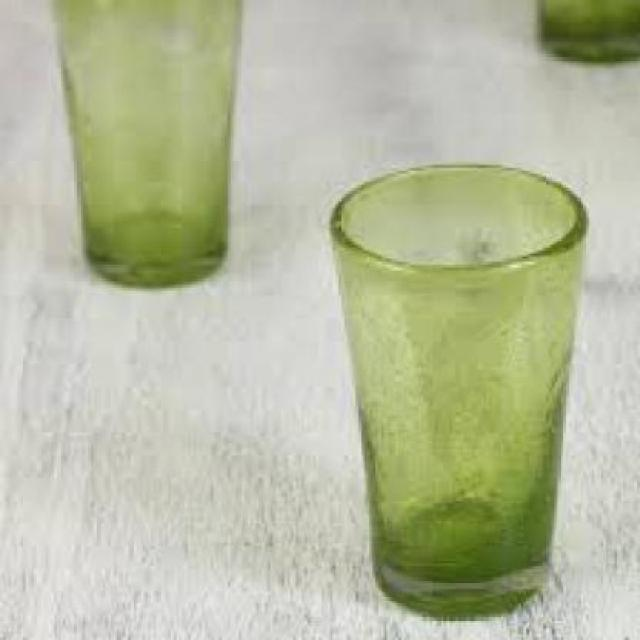kaca: (328, 160, 589, 617), (49, 0, 242, 288), (535, 0, 637, 63)
